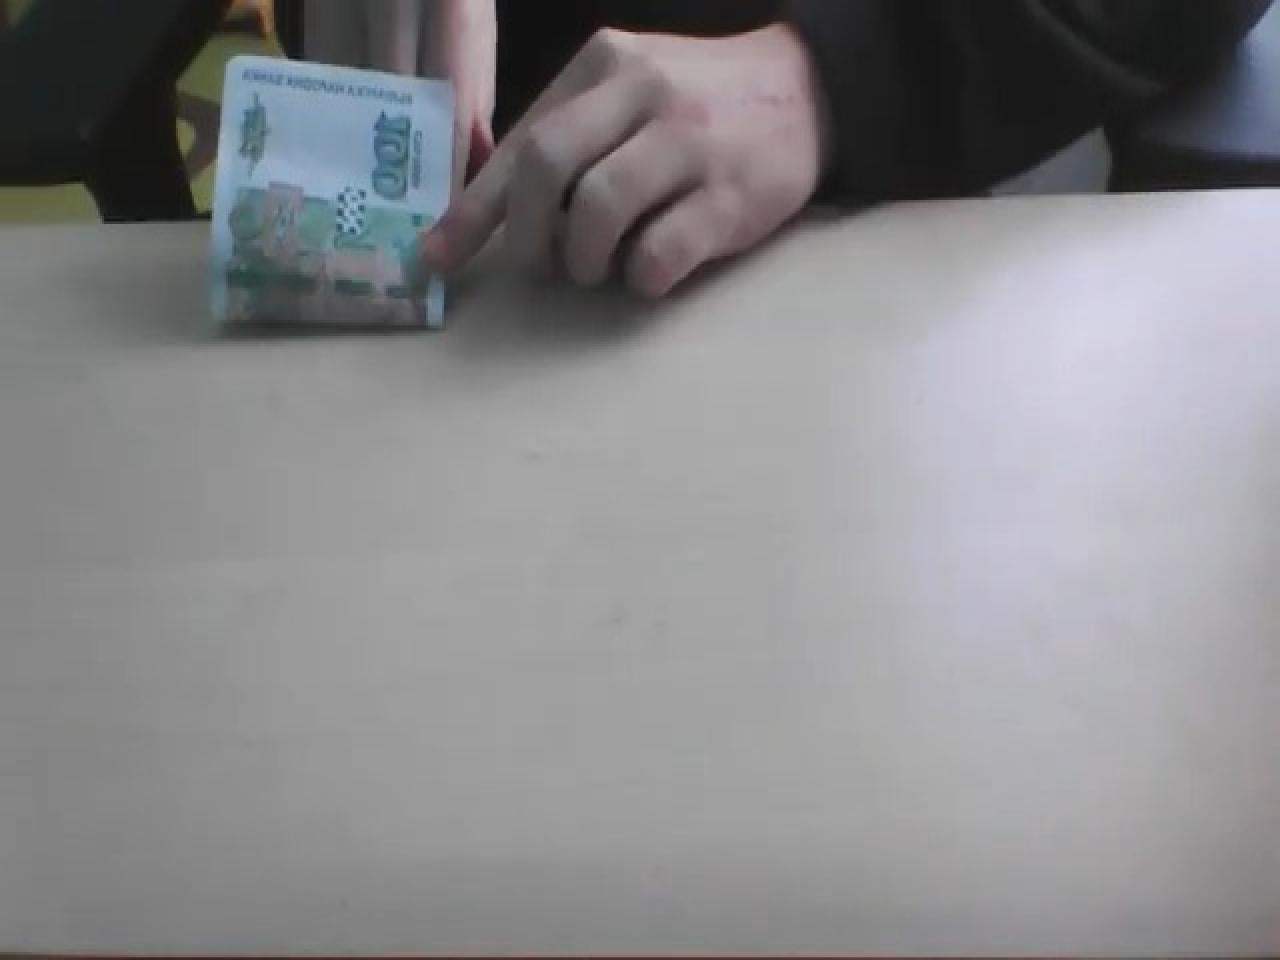100leva: (208, 53, 458, 331)
